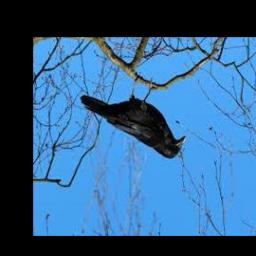Crow: (81, 78, 187, 160)
